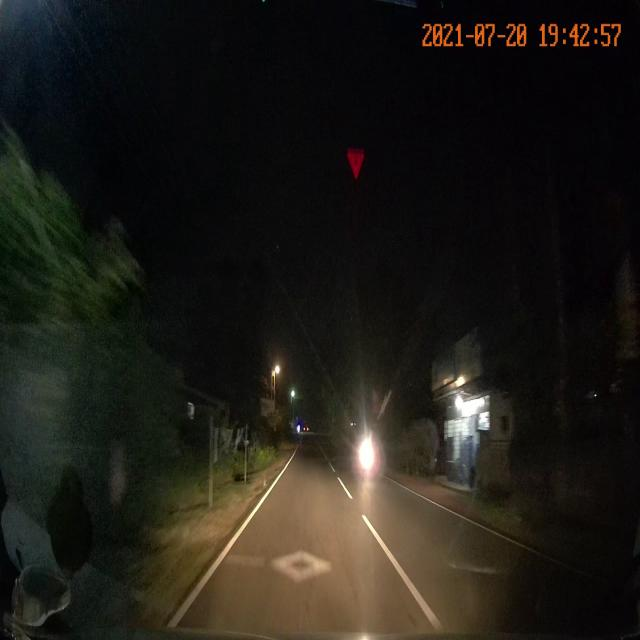diamond: (179, 527, 436, 606)
